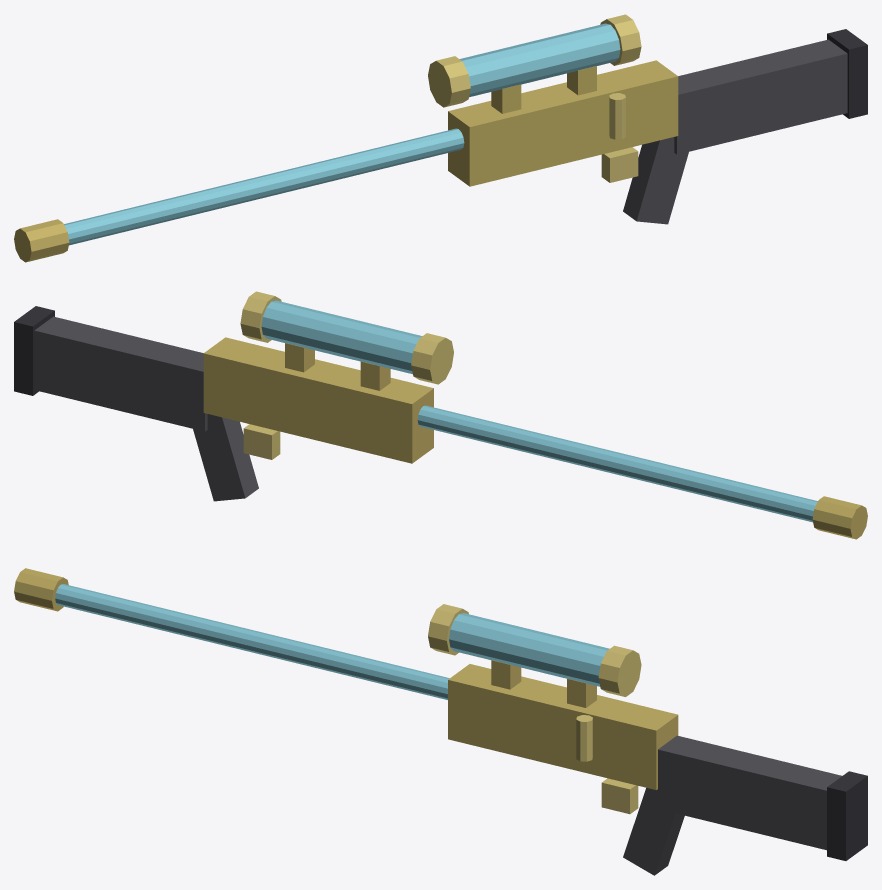
File: buz_nisanci.glb
3 renders of one model, top to bottom at view 1: azimuth 30°, elevation 25°; view 2: azimuth 150°, elevation 25°; view 3: azimuth 330°, elevation 25°, orthographic.
Visible parts, largest first — view 1: geometry_0; view 2: geometry_0; view 3: geometry_0.
Boxes of the visible parts, x1,y1,x2,y2 form: geometry_0: (14, 14, 867, 262); geometry_0: (14, 291, 867, 539); geometry_0: (14, 568, 867, 875).
Size of the model in its own units: 0.88 by 0.2118 by 0.06.
